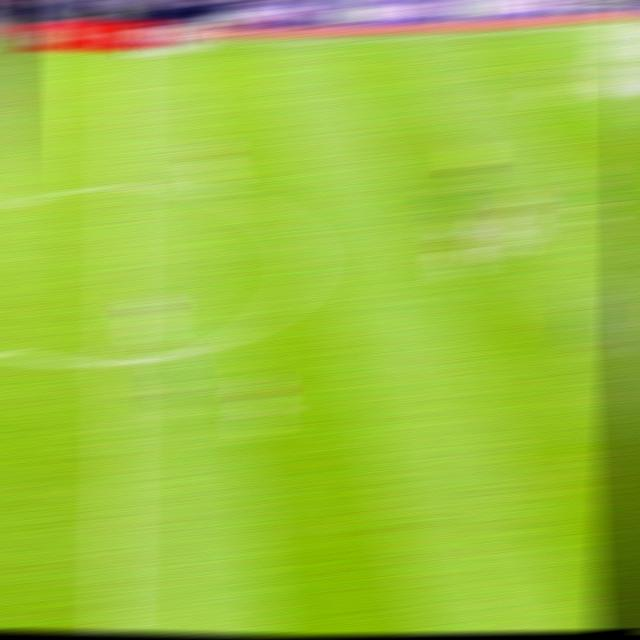halfcircle_bottom: (94, 342, 144, 381)
halfcircle_top: (96, 166, 148, 206)
midline_top_intersection: (98, 26, 157, 59)
